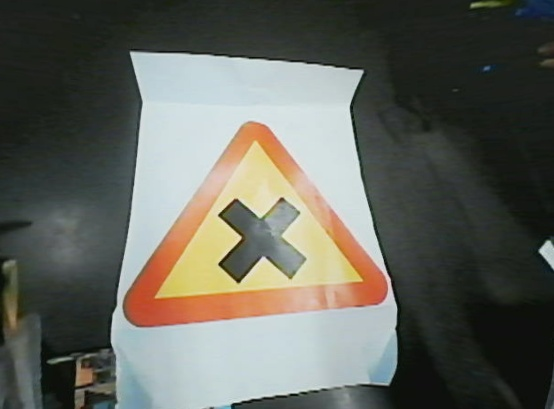junction: (114, 115, 405, 333)
